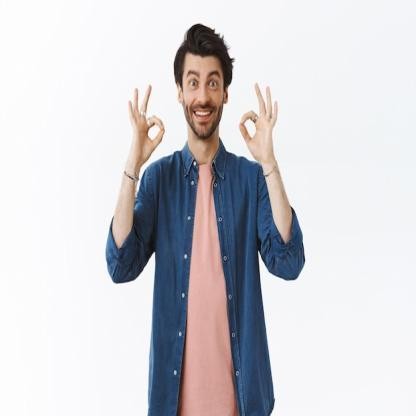ok: (238, 79, 282, 164), (125, 82, 167, 163)
